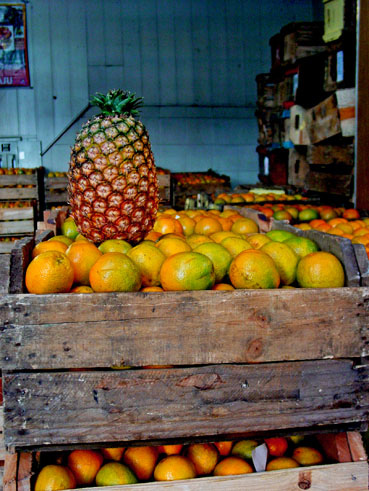pineapple: (62, 84, 161, 241)
